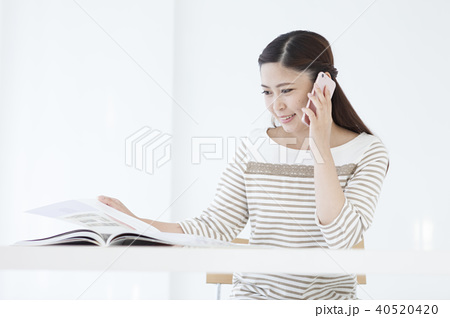phone: (301, 77, 334, 124)
talk: (263, 74, 339, 140)
